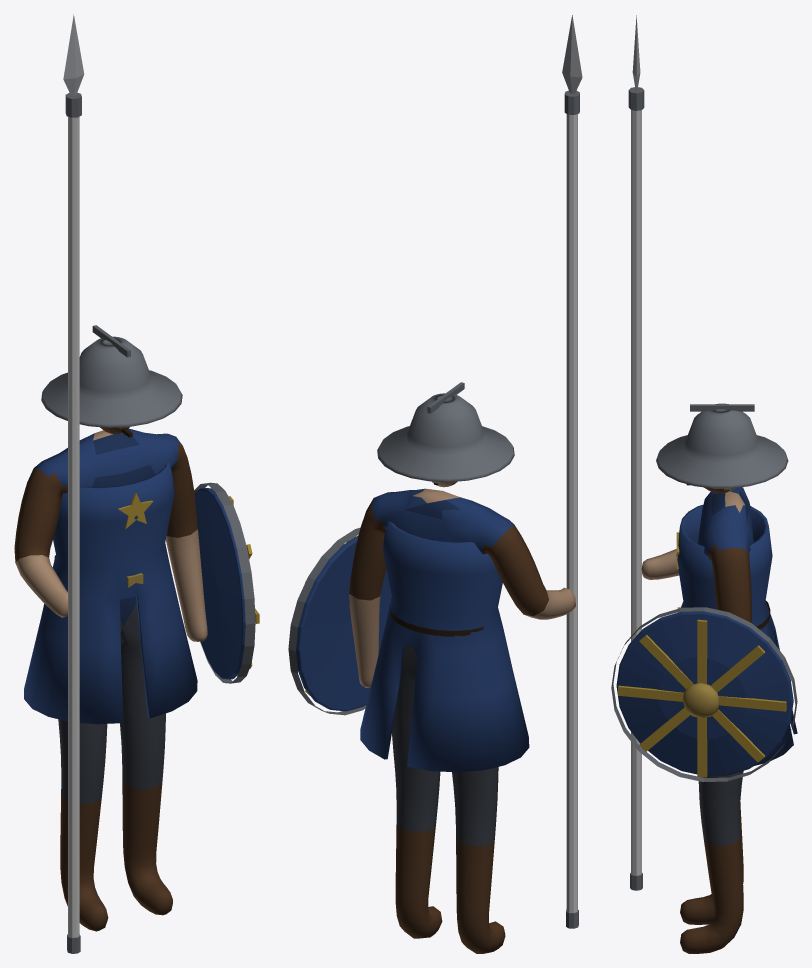
Rendered from soldier_speer.glb.
The picture shows the model from 3 angles, left to right: view 1: azimuth 30°, elevation 25°; view 2: azimuth 150°, elevation 25°; view 3: azimuth 270°, elevation 25°; orthographic projection. The views are drawn at different scales.
Parts seen in each view (by area): view 1: soldier_speer; view 2: soldier_speer; view 3: soldier_speer.
Part boxes in pixels (<box>): soldier_speer: <box>14,14,259,953</box>; soldier_speer: <box>288,15,582,953</box>; soldier_speer: <box>611,15,797,953</box>.
Bounding box in the file's own units: 0.7544 × 3.03 × 0.5769.
